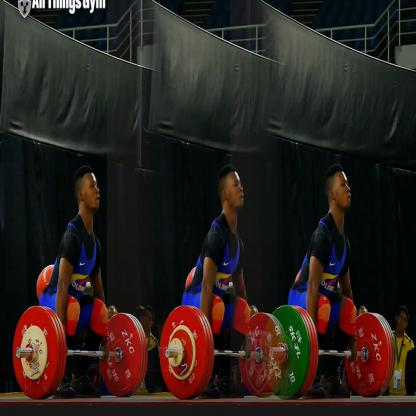Barbell: (158, 298, 218, 402), (10, 301, 69, 403), (262, 301, 312, 400)
